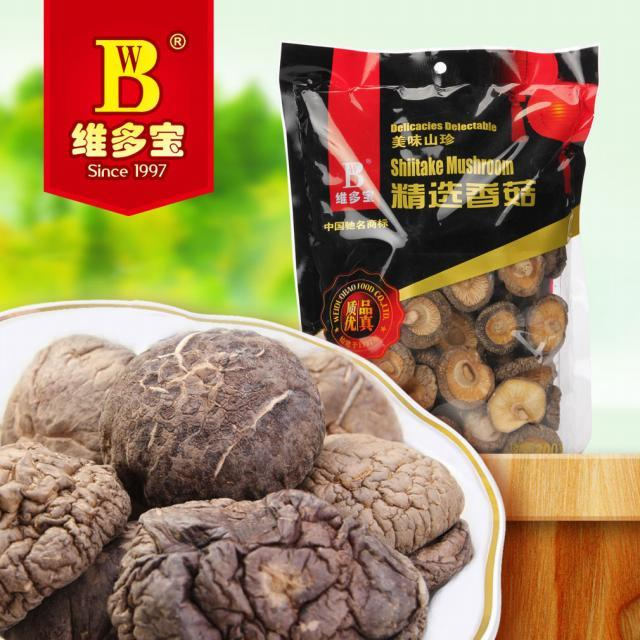Lentinus edodes: (121, 493, 429, 640), (101, 325, 322, 501), (0, 446, 132, 638)
